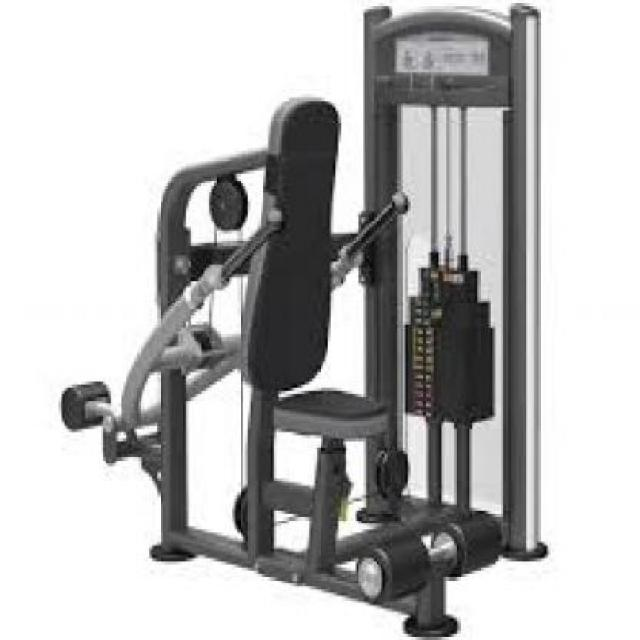seated dip machine: (55, 0, 557, 640)
